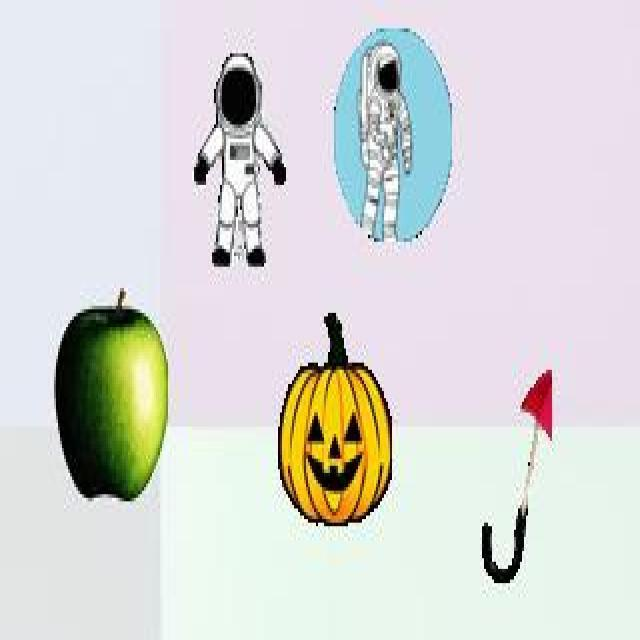Other Objects: (332, 27, 452, 242), (54, 287, 169, 503), (195, 50, 286, 267)
